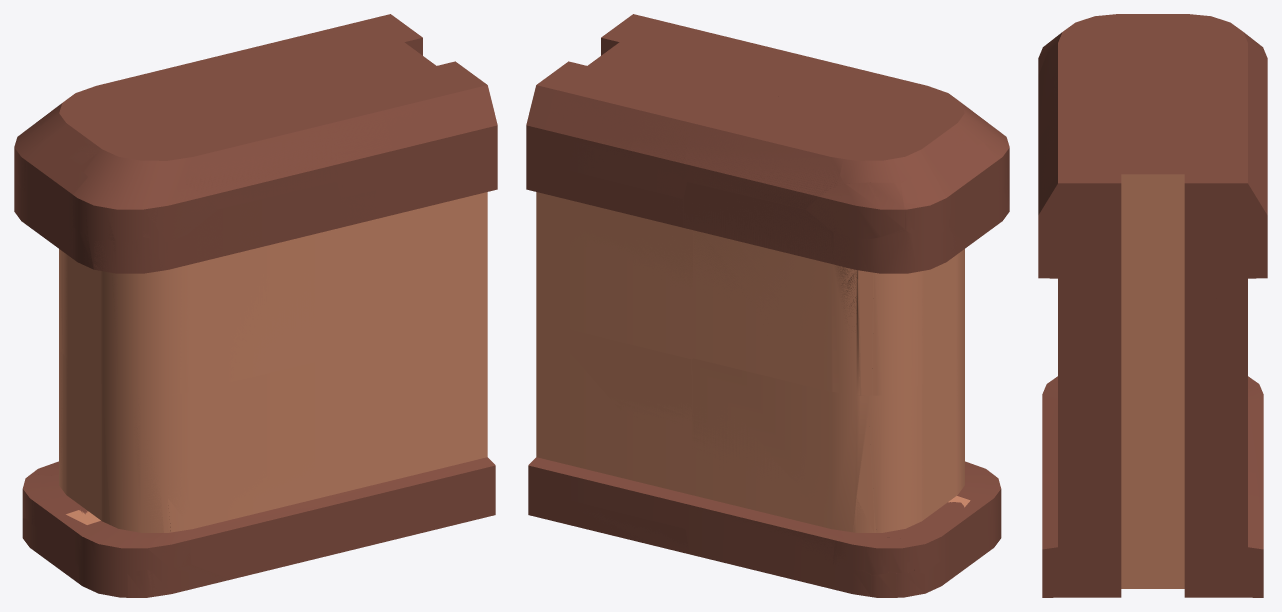
Rendered from WallFractured2.fbx.
3 renders of one model, left to right at view 1: azimuth 30°, elevation 25°; view 2: azimuth 150°, elevation 25°; view 3: azimuth 270°, elevation 25°, orthographic. The views are drawn at different scales.
Parts seen in each view (by area): view 1: Куб, Куб_cell.046, Куб_cell.078, Куб_cell.059, Куб_cell.004, Куб_cell.052, Куб_cell.030, Куб_cell.027, Куб_cell.049, Куб_cell.021, Куб_cell.066, Куб_cell.063 (+20 smaller); view 2: Куб, Куб_cell.090, Куб_cell.086, Куб_cell.027, Куб_cell.032, Куб_cell.075, Куб_cell.067, Куб_cell.004, Куб_cell.082, Куб_cell.049, Куб_cell.024, Куб_cell.070 (+20 smaller); view 3: Куб, Куб_cell.027, Куб_cell.089, Куб_cell.088, Куб_cell.004, Куб_cell.049, Куб_cell.059, Куб_cell.061, Куб_cell.075, Куб_cell.014, Куб_cell.023, Куб_cell.067 (+19 smaller).
Boxes of the visible parts, x1,y1,x2,y2 form: Куб: (14, 25, 497, 597); Куб_cell.046: (331, 329, 486, 530); Куб_cell.078: (168, 440, 338, 579); Куб_cell.059: (309, 90, 488, 198); Куб_cell.004: (158, 90, 338, 208); Куб_cell.052: (180, 195, 330, 393); Куб_cell.030: (331, 191, 478, 358); Куб_cell.027: (86, 52, 280, 115); Куб_cell.049: (268, 26, 422, 87); Куб_cell.021: (334, 496, 481, 553); Куб_cell.066: (53, 360, 83, 513); Куб_cell.063: (124, 398, 163, 544); Куб: (526, 14, 1009, 597); Куб_cell.090: (686, 358, 868, 559); Куб_cell.086: (683, 182, 859, 395); Куб_cell.027: (685, 88, 864, 209); Куб_cell.032: (544, 165, 692, 288); Куб_cell.075: (535, 90, 714, 197); Куб_cell.067: (546, 324, 692, 501); Куб_cell.004: (744, 51, 937, 115); Куб_cell.082: (869, 391, 924, 538); Куб_cell.049: (552, 54, 741, 101); Куб_cell.024: (537, 493, 688, 553); Куб_cell.070: (872, 272, 913, 395); Куб: (1038, 14, 1267, 597); Куб_cell.027: (1153, 37, 1267, 138); Куб_cell.089: (1153, 220, 1184, 403); Куб_cell.088: (1216, 237, 1257, 415); Куб_cell.004: (1038, 37, 1137, 138); Куб_cell.049: (1153, 108, 1215, 230); Куб_cell.059: (1038, 110, 1112, 209); Куб_cell.061: (1184, 232, 1215, 412); Куб_cell.075: (1193, 110, 1267, 208); Куб_cell.014: (1093, 404, 1152, 568); Куб_cell.023: (1090, 123, 1152, 230); Куб_cell.067: (1229, 415, 1263, 569).
Bounding box in the file's own units: 209 × 217 × 109.
